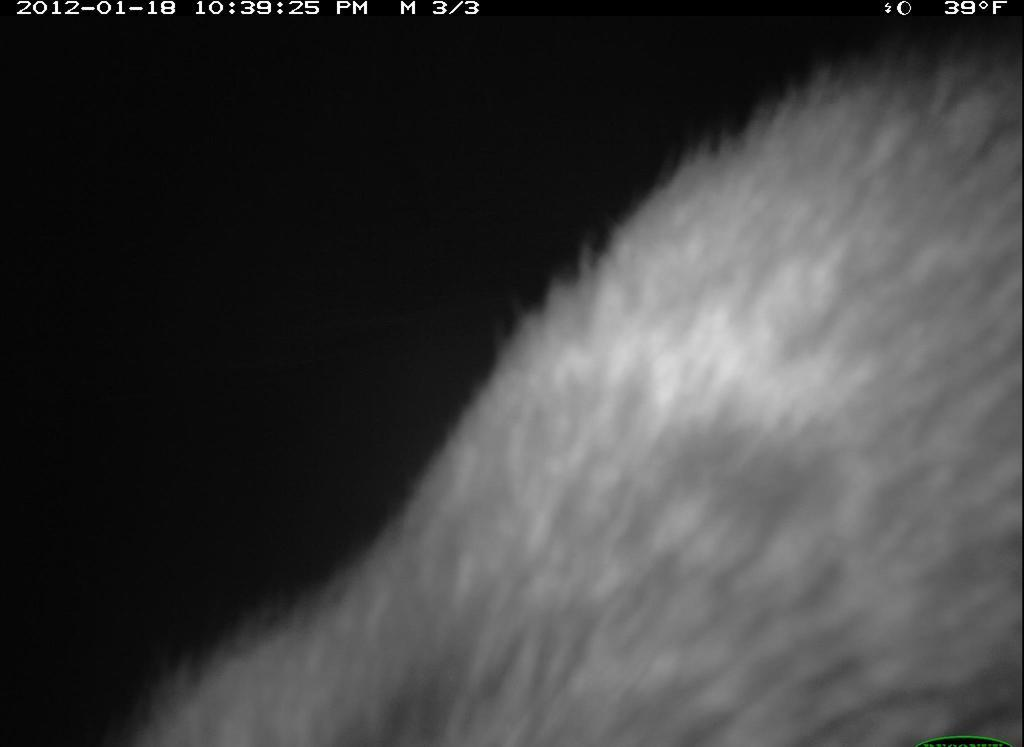raccoon: (97, 38, 1021, 747)
